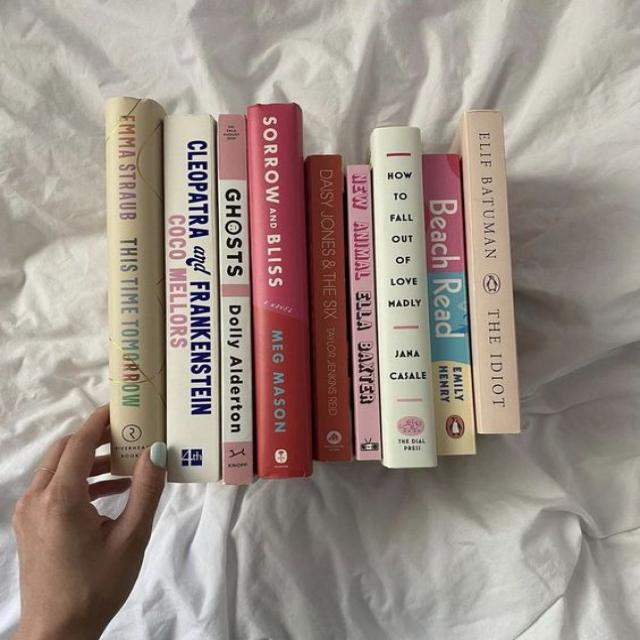book: (247, 103, 312, 478), (450, 111, 520, 433), (371, 127, 436, 468), (107, 98, 165, 477), (165, 114, 219, 481), (423, 153, 473, 455), (306, 154, 350, 461), (218, 114, 254, 483), (347, 165, 379, 460)
